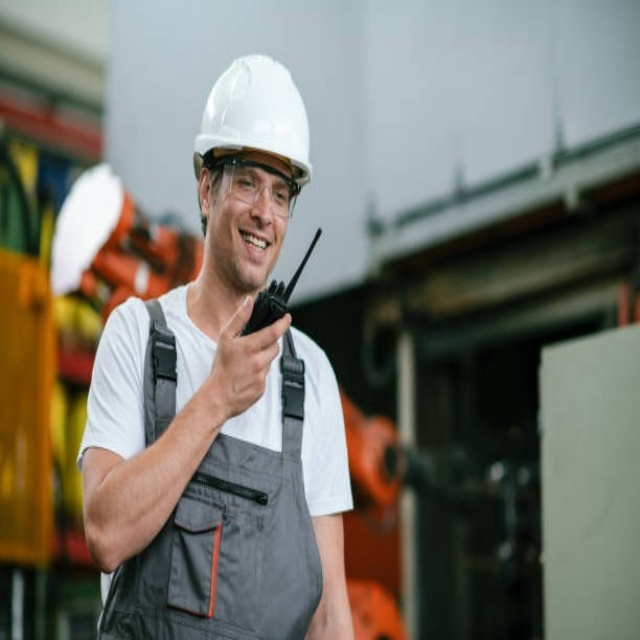Gafas: (213, 162, 298, 224)
Sin_guantes: (207, 293, 296, 420)
Sin_mascara: (231, 224, 274, 271)
